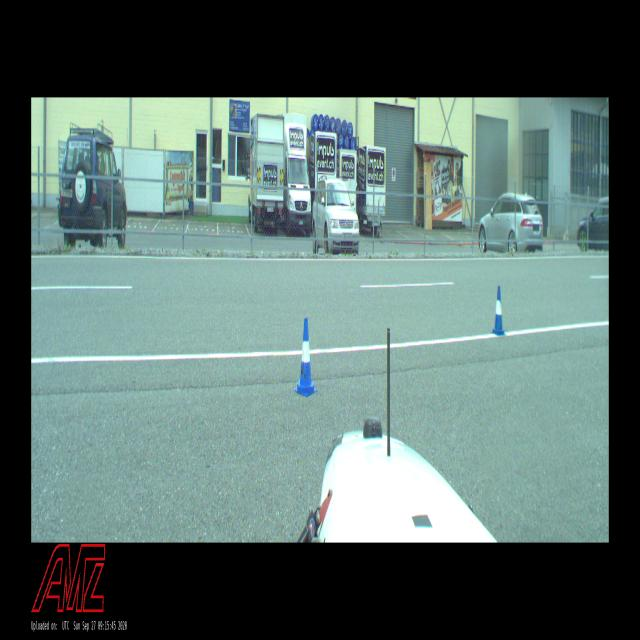blue_cone: (297, 318, 314, 393), (493, 286, 504, 335)
